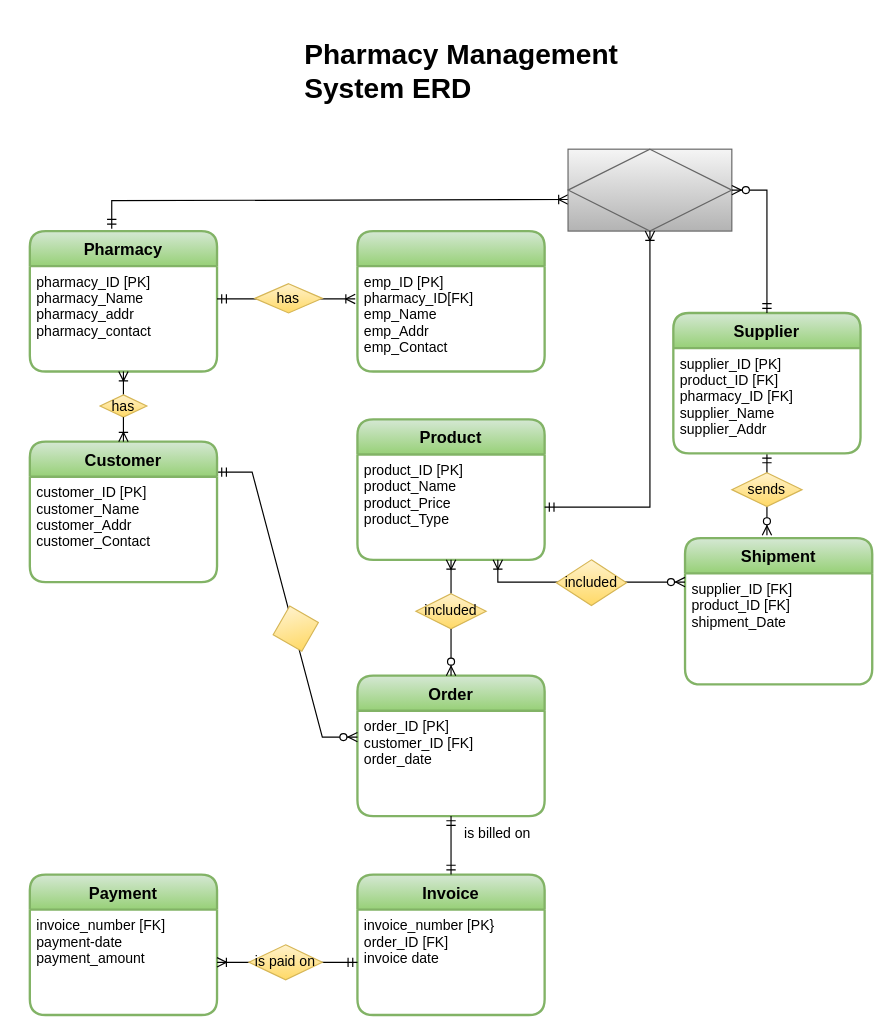
This 894x1035 diagram has some shape labels left out. Each missing label, with the box of its shape:
Employee: (356, 229, 545, 372)
places: (266, 599, 325, 657)
Supplies: (567, 148, 732, 231)
